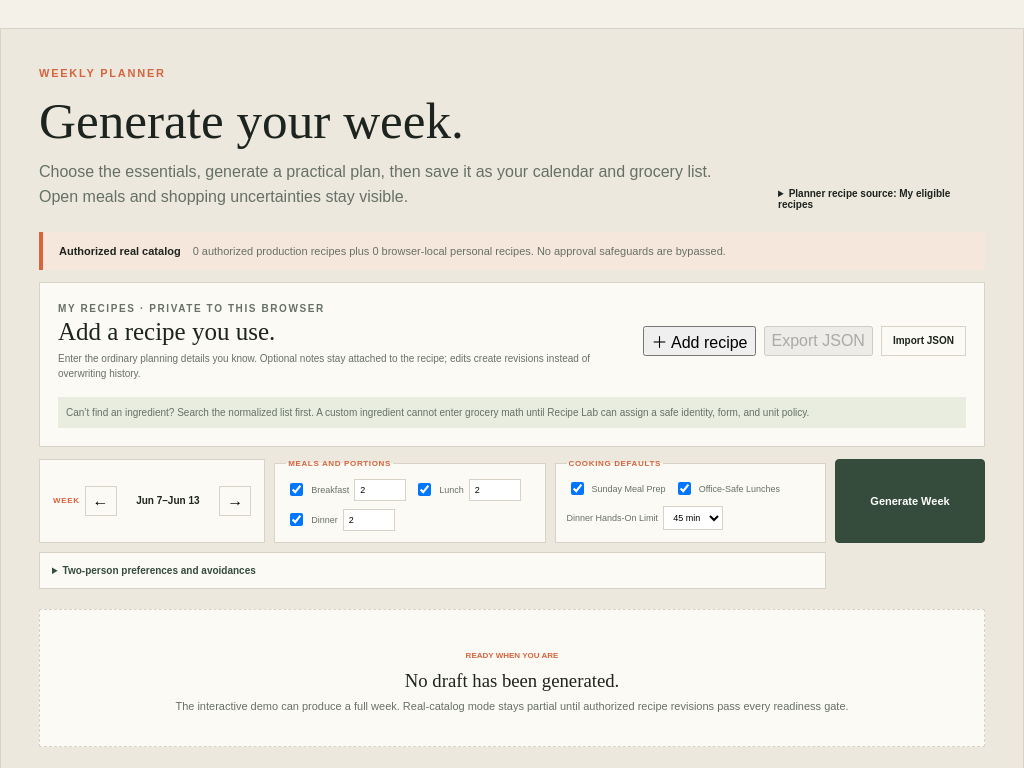
Scenario: Generate Week interactive preview › exposes a streamlined local-only recipe path with explicit fresh-use boundaries
Click the button "＋ Add recipe" at (700, 341), box x1=644 y1=326 x2=756 y2=356
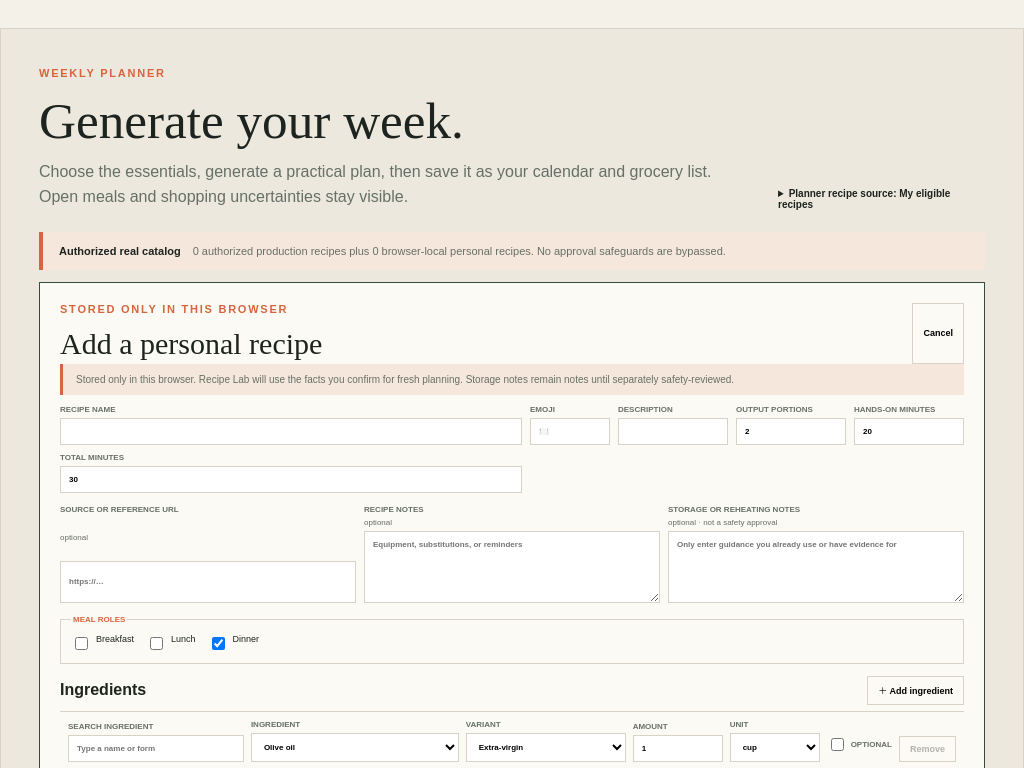
Expected: the heading "Add a personal recipe" is shown, x1=60 y1=327 x2=322 y2=361
Expected: the text "Storage notes remain notes until separately safety-reviewed" is shown, x1=463 y1=374 x2=734 y2=385
Expected: the field named "Search ingredient 1" is shown, x1=68 y1=735 x2=244 y2=762
